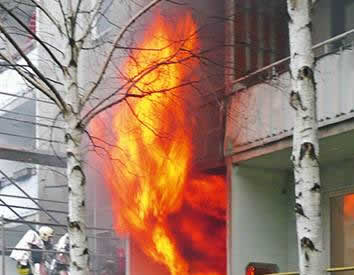fire: (110, 49, 188, 251)
smoke: (18, 57, 107, 229)
